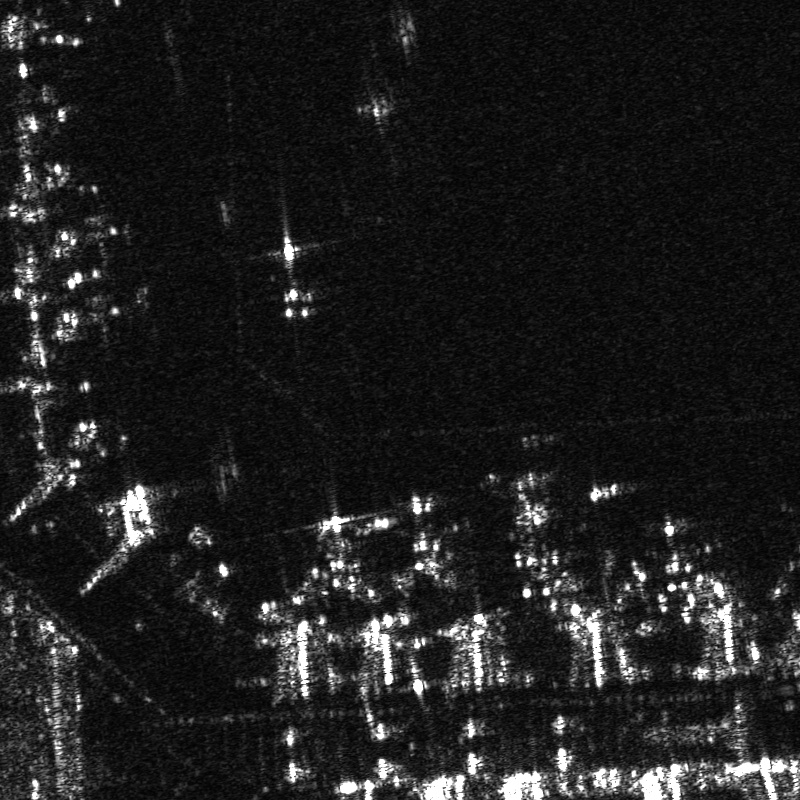A220: (285, 506, 383, 602), (63, 276, 157, 351), (56, 198, 141, 264)
A320/321: (490, 466, 592, 575), (626, 515, 717, 597)
Boeing737: (233, 233, 363, 323)
other: (385, 489, 481, 588), (352, 78, 414, 137)
